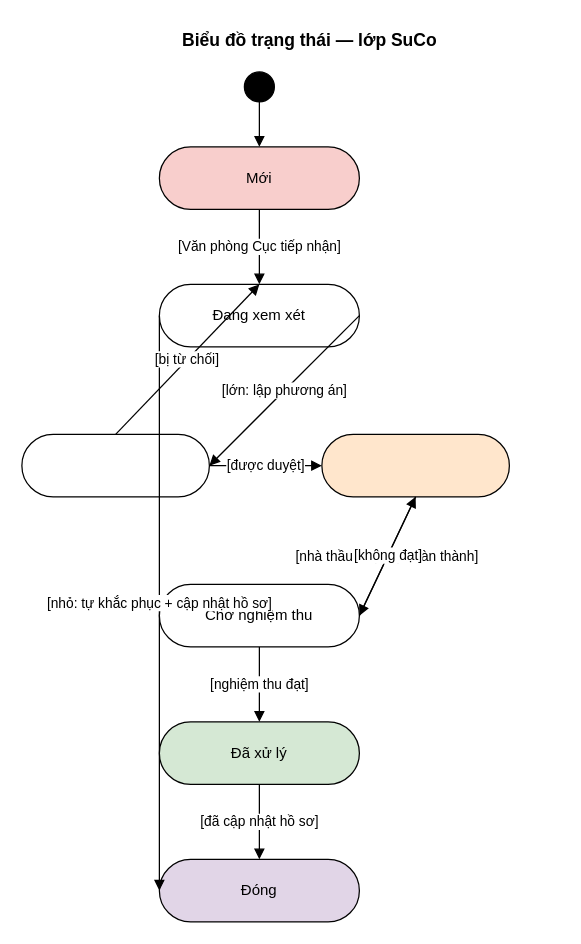
Image size: 581x944. Some labels were removed from this diagram. The box of each missing label's shape, as (x1, y1, x2, y2) in pixels:
Chờ phê duyệt: (21, 433, 209, 497)
Đang sửa chữa: (321, 433, 509, 497)
